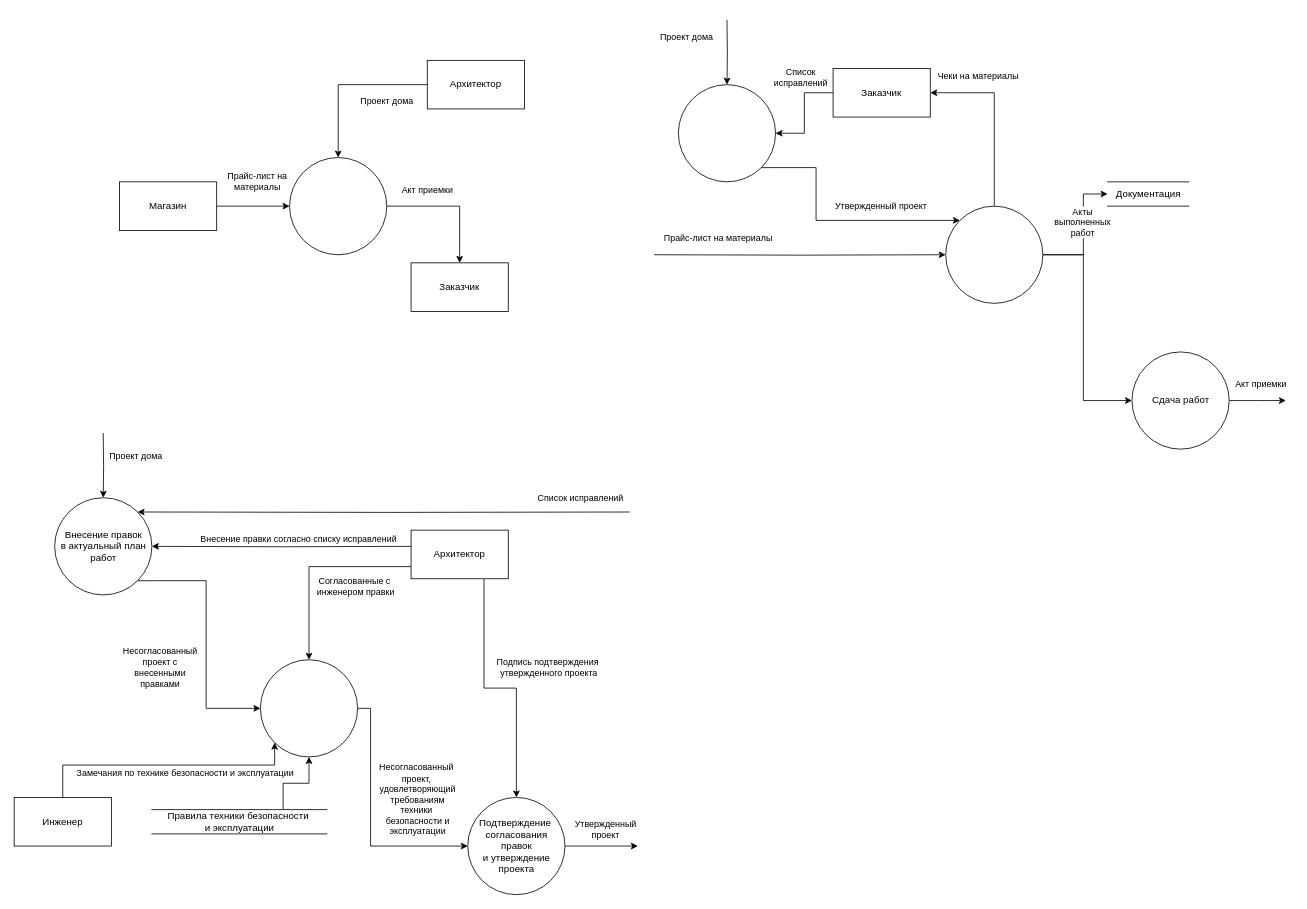
This 1307x909 diagram has some shape labels left out. Each missing label, with the centre of its shape:
Выполнение строительных работ: the point at 994,254
Постройка дома: the point at 338,206
Проверка внесенных правок на соответствие технике безопасности и эксплуатации: the point at 309,708
Согласование проекта: the point at 727,133
